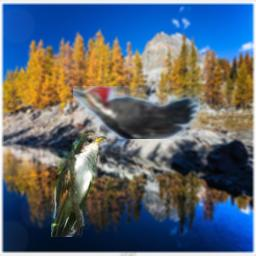Cuckoo: (51, 131, 107, 237)
Woodpecker: (73, 86, 200, 139)
